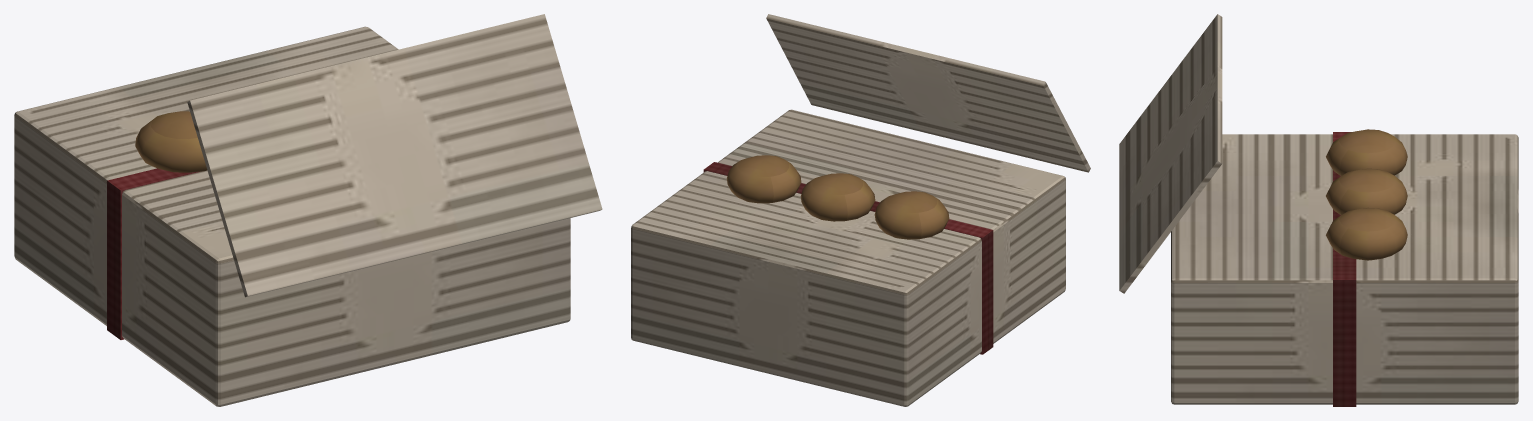
The model's file is FD13_PastryBox.glb.
3 views of the same model, side by side, from view 1: azimuth 30°, elevation 25°; view 2: azimuth 150°, elevation 25°; view 3: azimuth 270°, elevation 25° (orthographic). The views are drawn at different scales.
Visible parts, largest first — view 1: FD13_PastryBox; view 2: FD13_PastryBox; view 3: FD13_PastryBox.
Part boxes in pixels (x1,y1,x2,y2): FD13_PastryBox: (14,14,602,406); FD13_PastryBox: (631,14,1090,406); FD13_PastryBox: (1119,14,1518,406).
Bounding box in the file's own units: 0.2631 × 0.2037 × 0.3.
3 materials, 3 textured.
